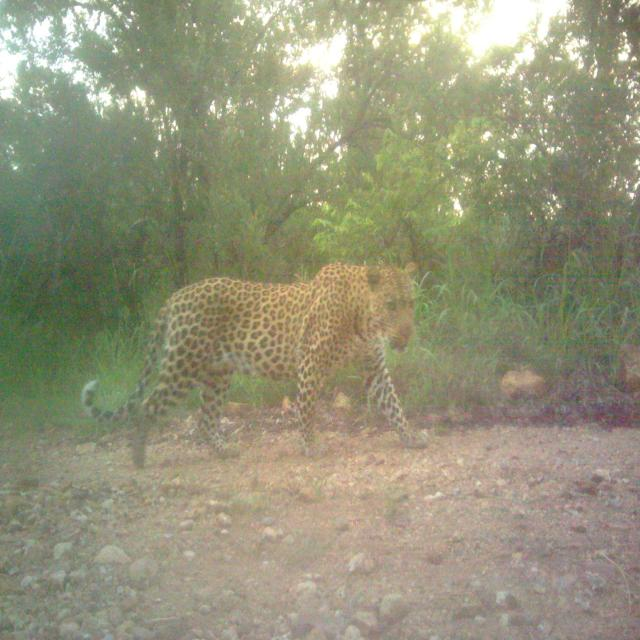Leopard: (74, 242, 436, 454)
